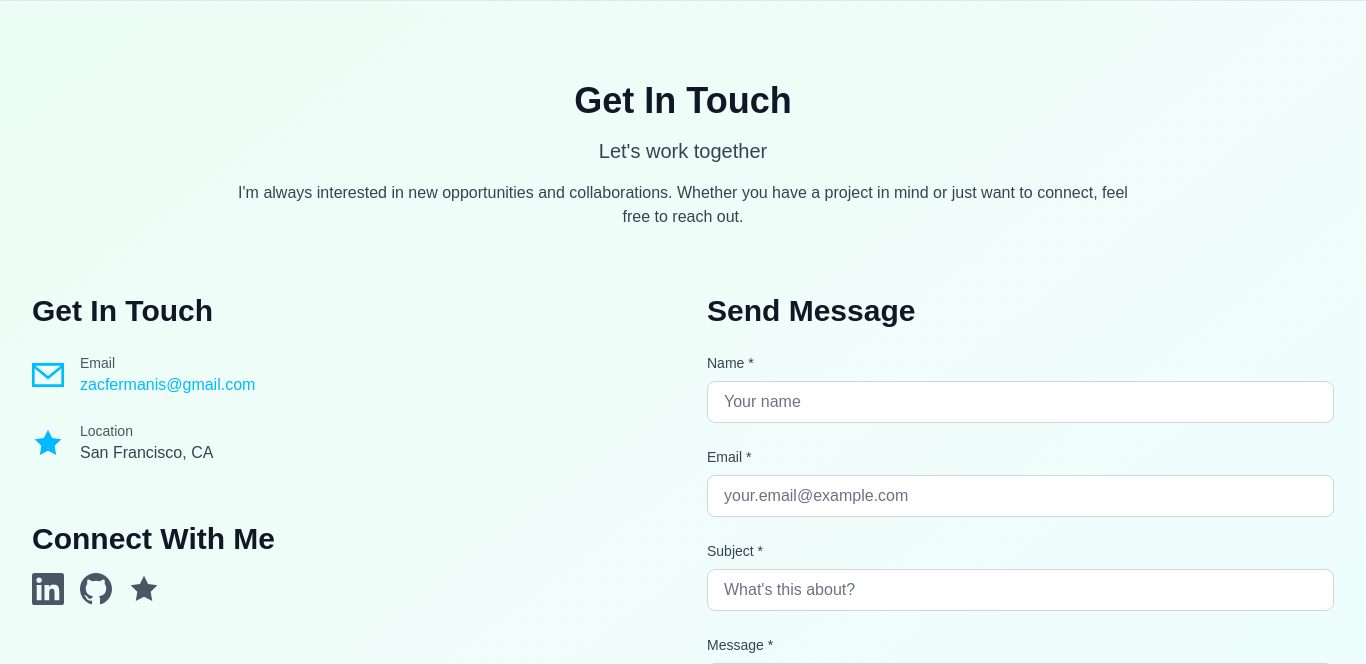
Test case: Contact › handles form submission with valid data
In the field labelled "Name *": (1020, 402) [707,381,1334,423], type "John Doe"
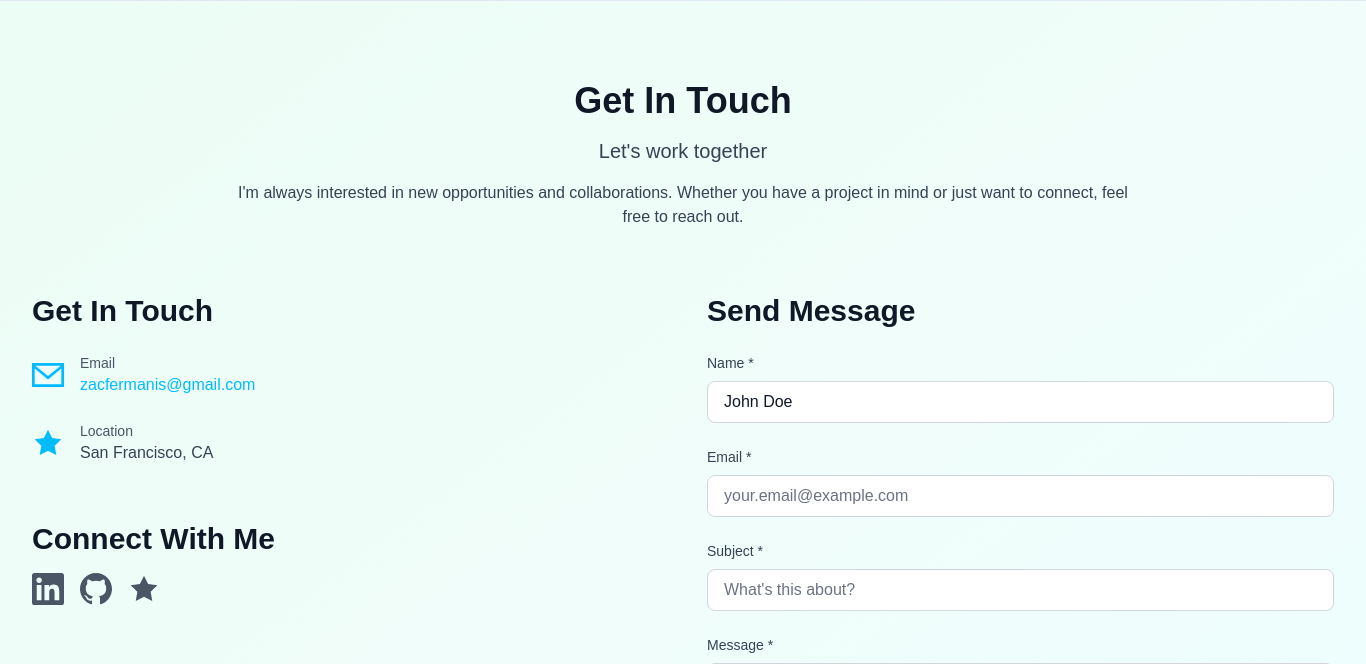
In the field labelled "Email *": (1020, 496) [707,475,1334,517], type "john@example.com"
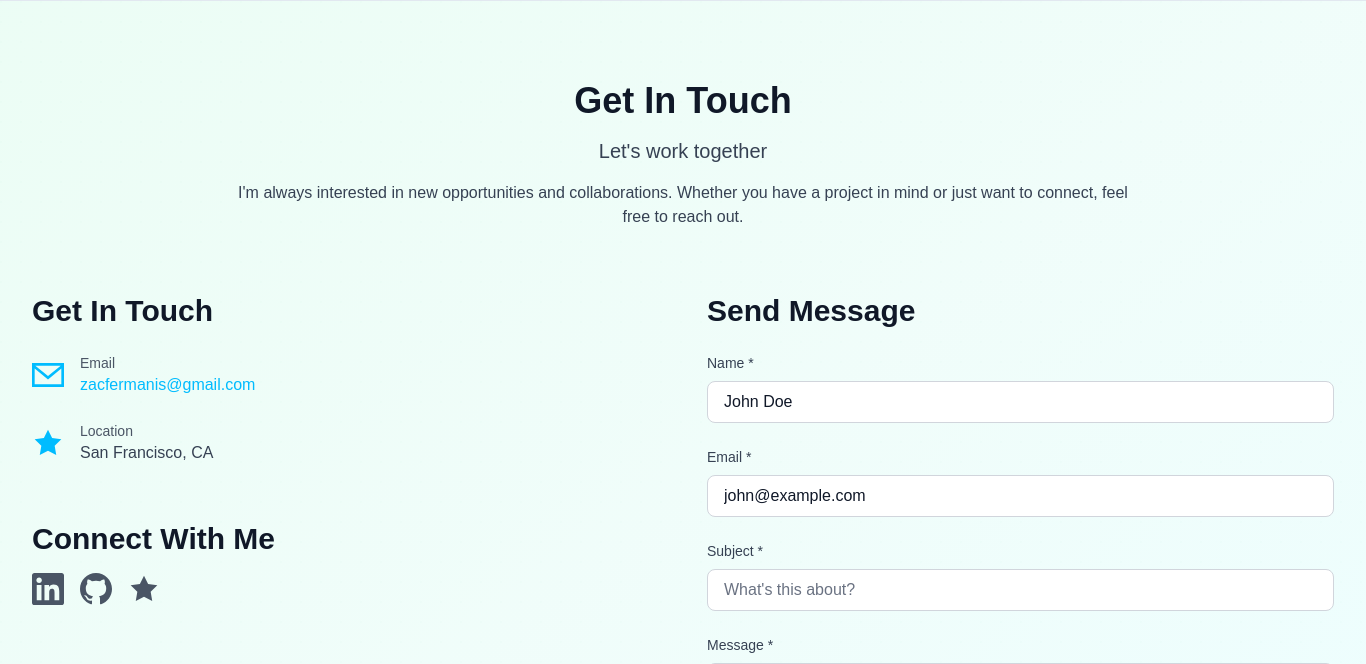
In the field labelled "Subject *": (1020, 590) [707,569,1334,611], type "Test Subject"
(page scrolled)
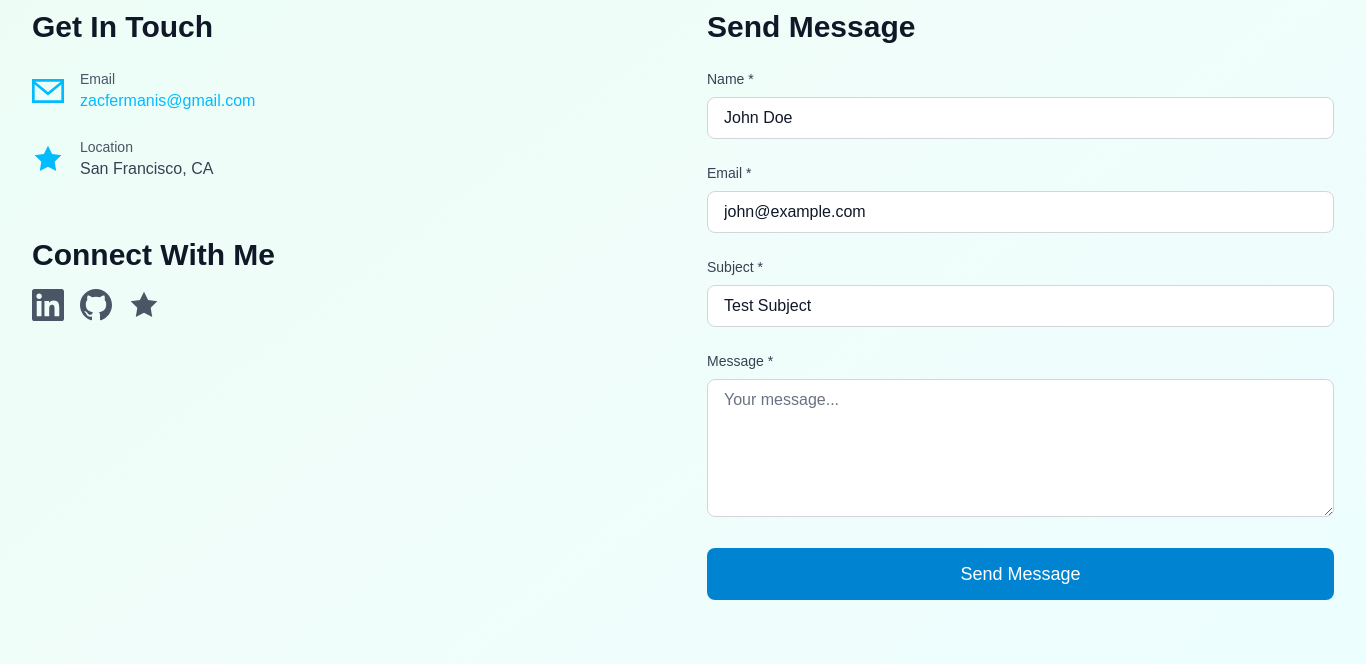
In the text box labelled "Message *": (1020, 448) [707,379,1334,517], type "Test message"
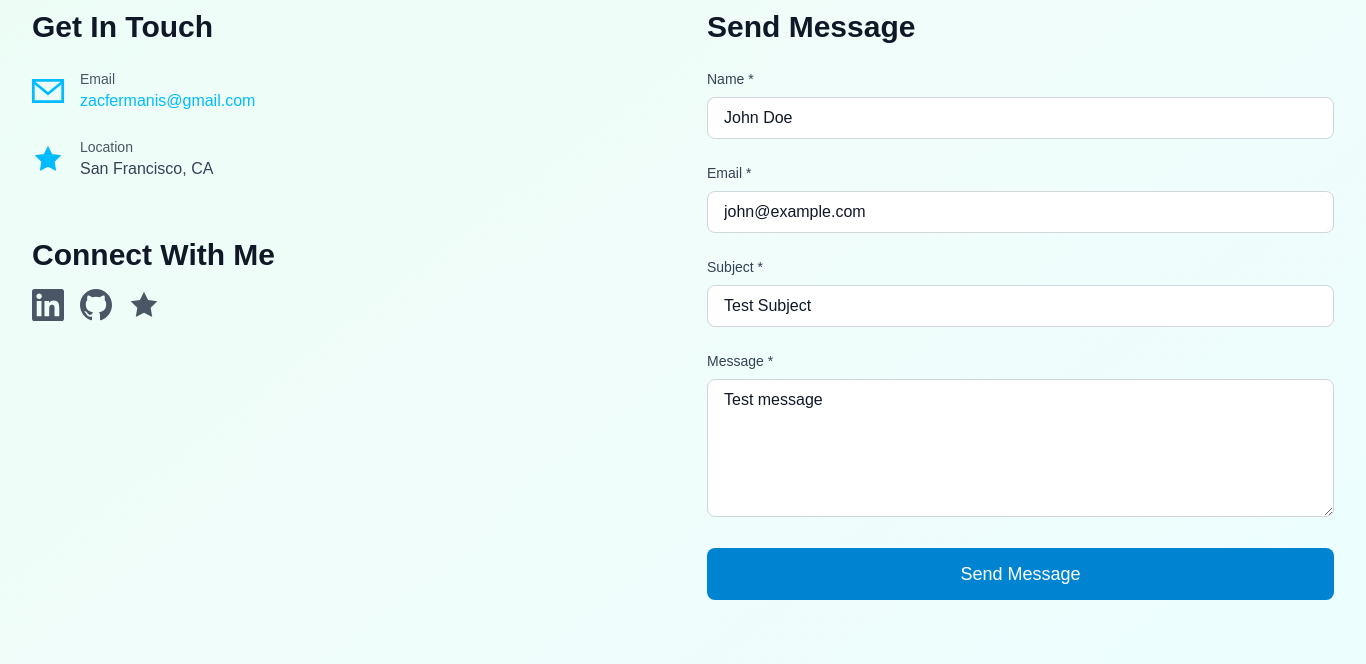
Click the button "Send Message": (1020, 574) [707,548,1334,600]
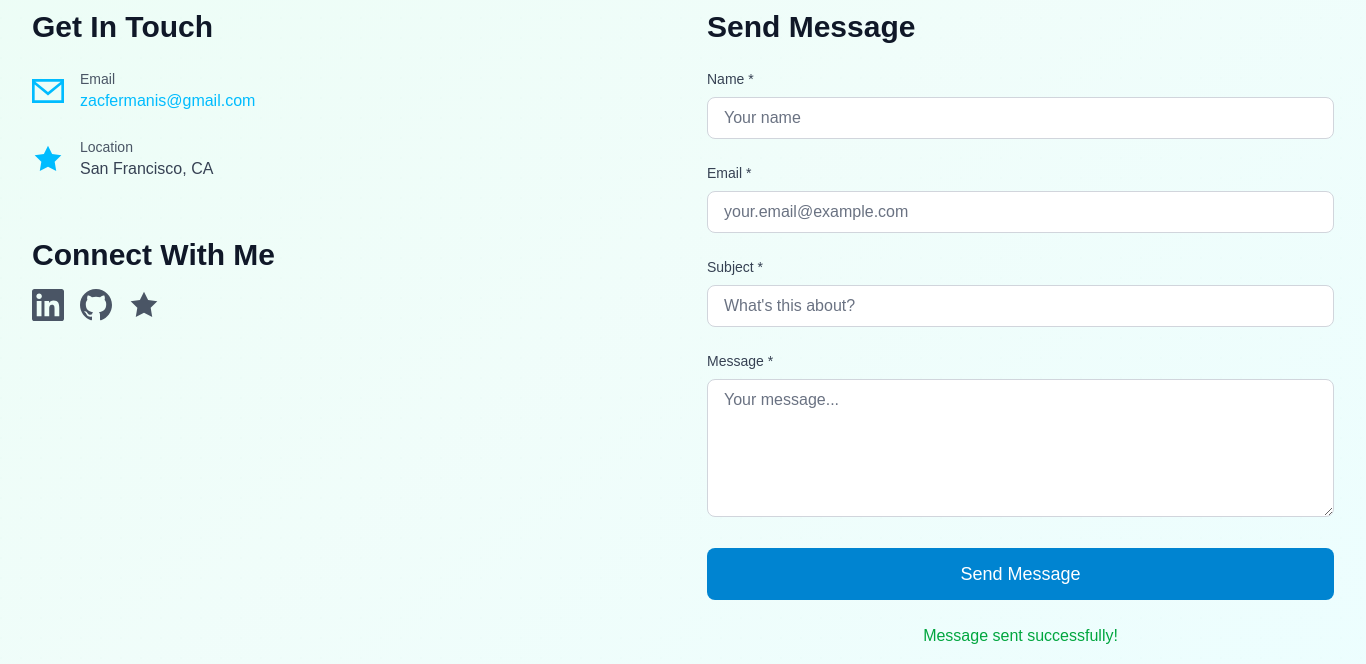
expect the text "Message sent successfully!" is shown: met, box [923,627,1118,644]
